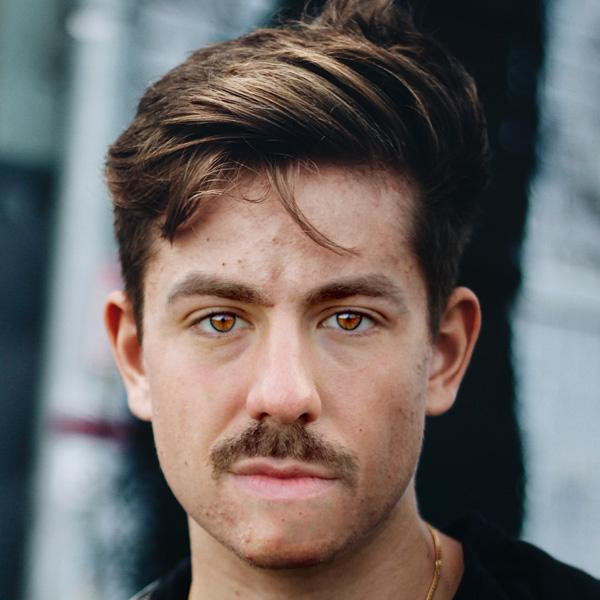Eyes: (168, 291, 256, 349), (310, 298, 398, 345)
